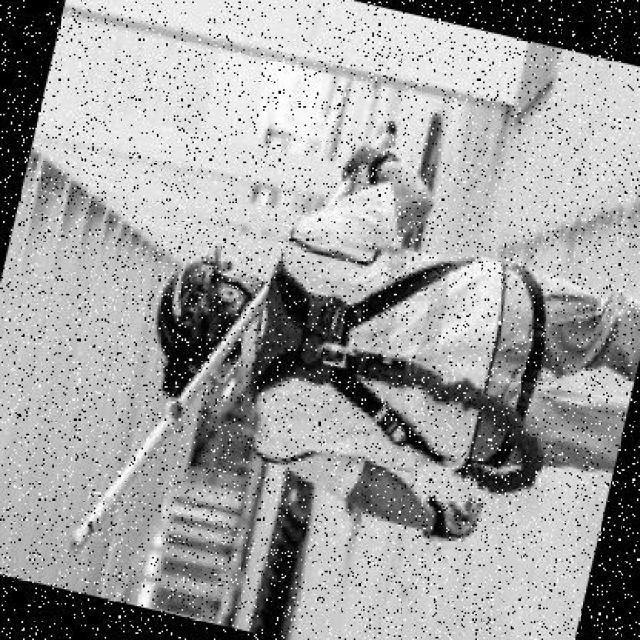Arnes_seguridad: (215, 203, 592, 534)
